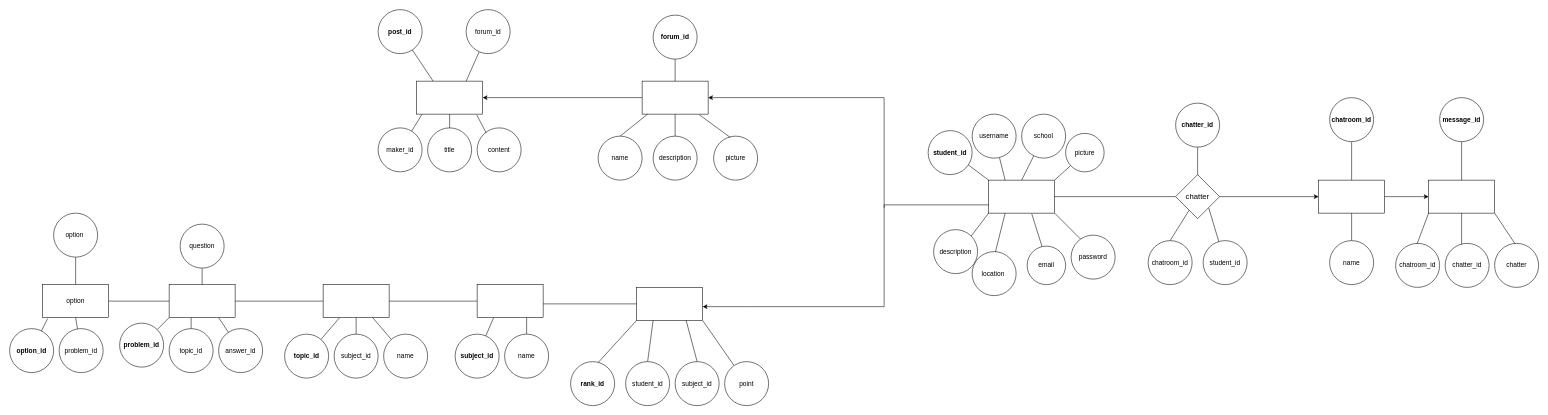
Image size: 1548x415. Some labels were removed from this diagram. Here are the shapes that lost their labels. From the top down, the centre of each, then its label:
(449,97): forum_post
(675,97): Forum
(1021,196): Student
(1351,196): Chatroom
(1461,196): Message
(202,301): Problem
(356,301): Topic
(510,301): Subject
(669,303): Rank
